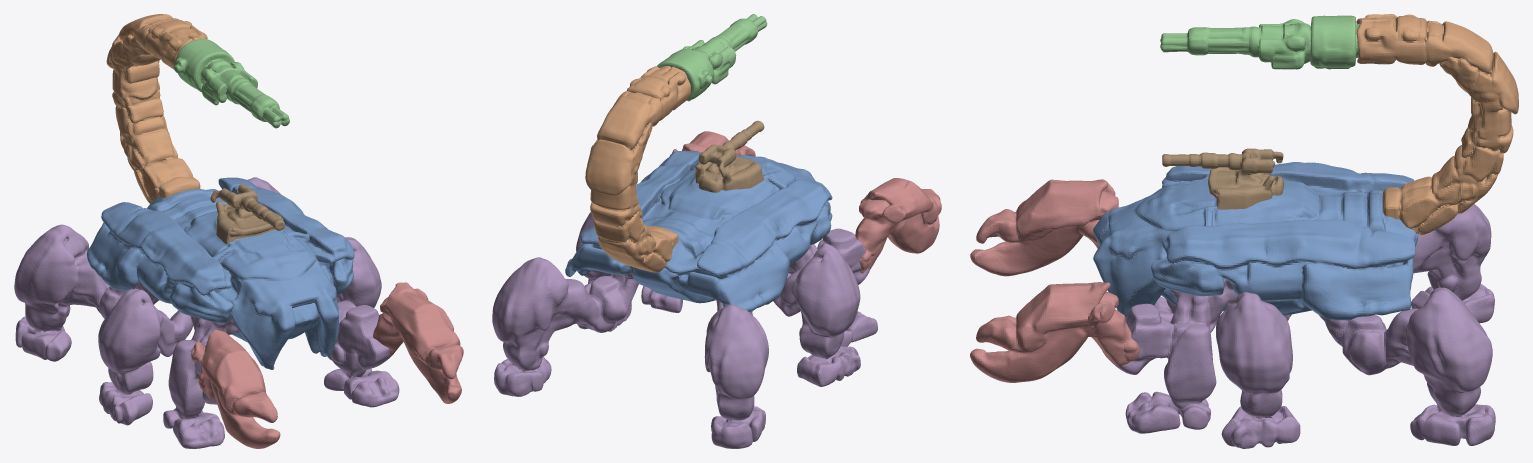
The model's file is scorpion_mech_5.glb.
The picture shows the model from 3 angles, left to right: view 1: azimuth 30°, elevation 25°; view 2: azimuth 150°, elevation 25°; view 3: azimuth 270°, elevation 25°; orthographic projection. The views are drawn at different scales.
Parts seen in each view (by area): view 1: Armored_Carapace_Body, Walking_Legs, Pincer_Claws, Multi-segmented_Tail, Stinger_Cannon, Head_Turret; view 2: Walking_Legs, Armored_Carapace_Body, Multi-segmented_Tail, Pincer_Claws, Stinger_Cannon, Head_Turret; view 3: Walking_Legs, Armored_Carapace_Body, Pincer_Claws, Multi-segmented_Tail, Stinger_Cannon, Head_Turret.
Boxes of the visible parts, x1=… form: Armored_Carapace_Body: x1=87, y1=177, x2=354, y2=369; Walking_Legs: x1=14, y1=177, x2=399, y2=448; Pincer_Claws: x1=191, y1=282, x2=463, y2=448; Multi-segmented_Tail: x1=106, y1=14, x2=207, y2=203; Stinger_Cannon: x1=174, y1=39, x2=289, y2=128; Head_Turret: x1=210, y1=184, x2=285, y2=244; Walking_Legs: x1=492, y1=212, x2=877, y2=448; Armored_Carapace_Body: x1=565, y1=151, x2=832, y2=311; Multi-segmented_Tail: x1=585, y1=65, x2=690, y2=272; Pincer_Claws: x1=669, y1=131, x2=941, y2=273; Stinger_Cannon: x1=657, y1=14, x2=767, y2=101; Head_Turret: x1=695, y1=120, x2=764, y2=192; Walking_Legs: x1=1102, y1=204, x2=1495, y2=448; Armored_Carapace_Body: x1=1093, y1=162, x2=1418, y2=320; Pincer_Claws: x1=970, y1=179, x2=1139, y2=382; Multi-segmented_Tail: x1=1356, y1=14, x2=1518, y2=235; Stinger_Cannon: x1=1160, y1=15, x2=1359, y2=69; Head_Turret: x1=1162, y1=148, x2=1283, y2=209.
Bounding box in the file's own units: 1.21 × 1.34 × 1.86.
